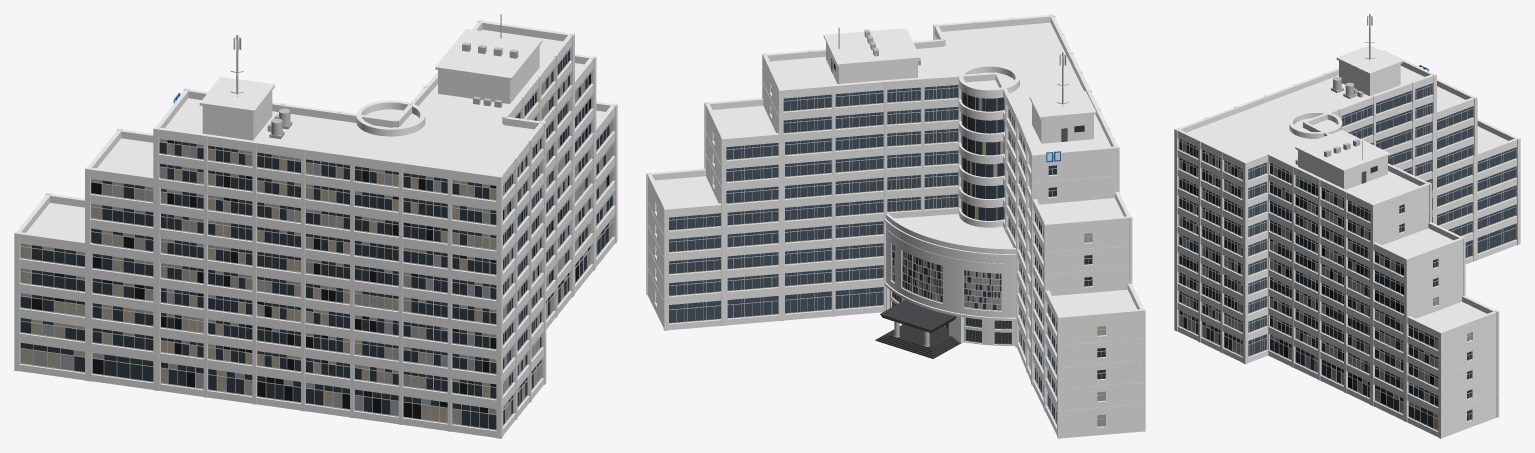
3 views of the same model, side by side, from view 1: azimuth 30°, elevation 25°; view 2: azimuth 150°, elevation 25°; view 3: azimuth 270°, elevation 25° (orthographic). The views are drawn at different scales.
Visible parts, largest first — view 1: B1_Wing_10F, B1_Wing_08F_A, B1_Wing_05F_A, B1_Wing_08F_B, Roof_Penthouse_B, B1_Wing_05F_B, Roof_Penthouse_A, Tower_Bands, Roof_ACUnits; view 2: B1_Wing_10F, B1_Wing_08F_B, B1_Wing_05F_A, B1_Wing_05F_B, B1_Wing_08F_A, Lobby_Ring_Wall, Roof_Penthouse_B, Tower_Bands, Tower_Glazing, Lobby_Ring_Windows, Roof_Penthouse_A, Lobby_Roof (+5 smaller); view 3: B1_Wing_10F, B1_Wing_05F_B, B1_Wing_08F_B, B1_Wing_08F_A, B1_Wing_05F_A, Roof_Penthouse_B, Roof_Penthouse_A, Tower_Bands.
Boxes of the visible parts, box(x1,y1,x2,y2) form: B1_Wing_10F: box(153, 19, 574, 438); B1_Wing_08F_A: box(85, 128, 160, 390); B1_Wing_05F_A: box(14, 192, 92, 381); B1_Wing_08F_B: box(569, 54, 596, 297); Roof_Penthouse_B: box(435, 29, 542, 103); B1_Wing_05F_B: box(590, 101, 617, 270); Roof_Penthouse_A: box(199, 77, 274, 140); Tower_Bands: box(356, 100, 425, 136); Roof_ACUnits: box(267, 14, 518, 131); B1_Wing_10F: box(762, 14, 1119, 385); B1_Wing_08F_B: box(704, 98, 784, 325); B1_Wing_05F_A: box(1043, 283, 1145, 438); B1_Wing_05F_B: box(646, 168, 727, 330); B1_Wing_08F_A: box(1031, 191, 1132, 411); Lobby_Ring_Wall: box(884, 213, 1017, 320); Roof_Penthouse_B: box(823, 28, 920, 83); Tower_Bands: box(959, 64, 1019, 227); Tower_Glazing: box(961, 91, 1004, 220); Lobby_Ring_Windows: box(891, 244, 1001, 310); Roof_Penthouse_A: box(1029, 91, 1096, 143); Lobby_Roof: box(894, 214, 1013, 247); B1_Wing_10F: box(1174, 50, 1436, 405); B1_Wing_05F_B: box(1403, 295, 1499, 438); B1_Wing_08F_B: box(1369, 222, 1465, 422); B1_Wing_08F_A: box(1431, 78, 1477, 264); B1_Wing_05F_A: box(1472, 119, 1520, 261); Roof_Penthouse_B: box(1295, 130, 1390, 189); Roof_Penthouse_A: box(1336, 45, 1402, 96); Tower_Bands: box(1289, 111, 1342, 138).
Size of what is drawn, in the model's own units: 88.85 by 49.95 by 59.21.
